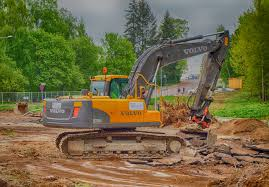excavator: (42, 29, 238, 156)
